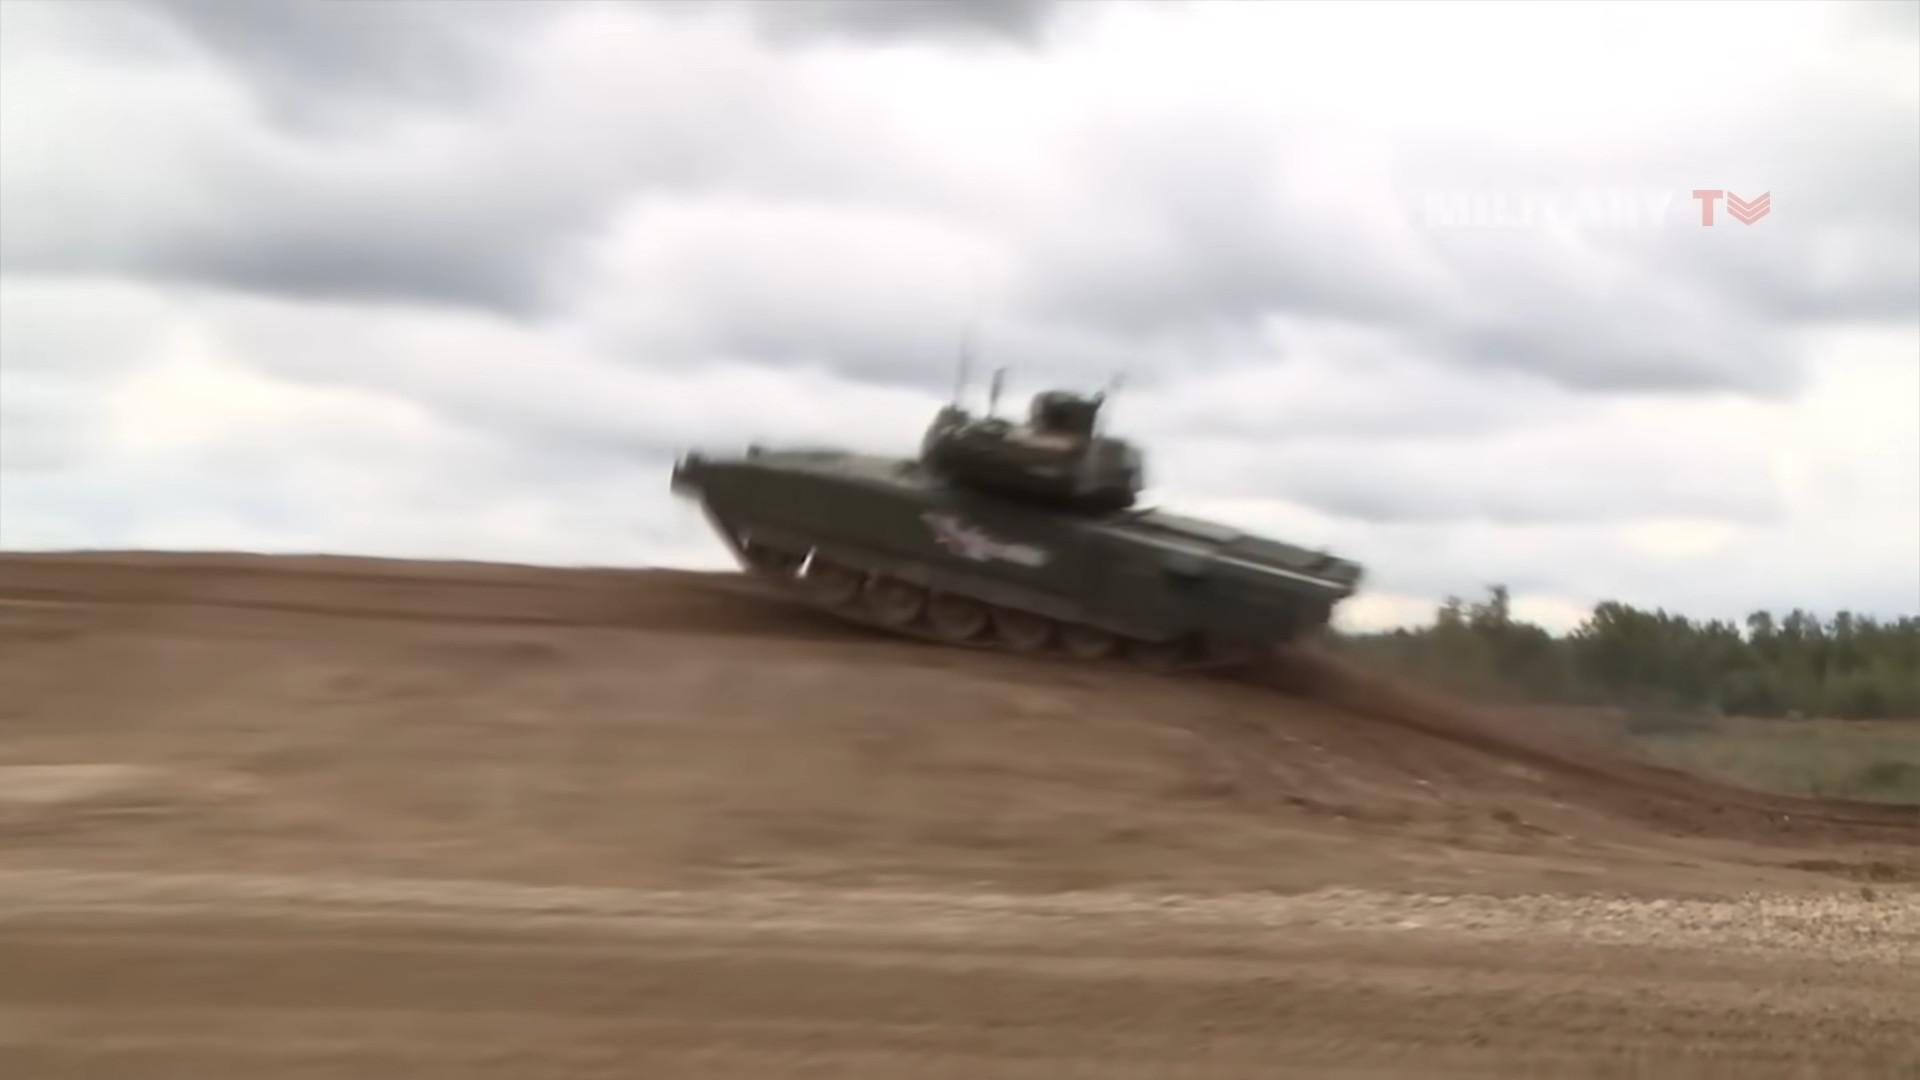tank: (675, 393, 1362, 674)
